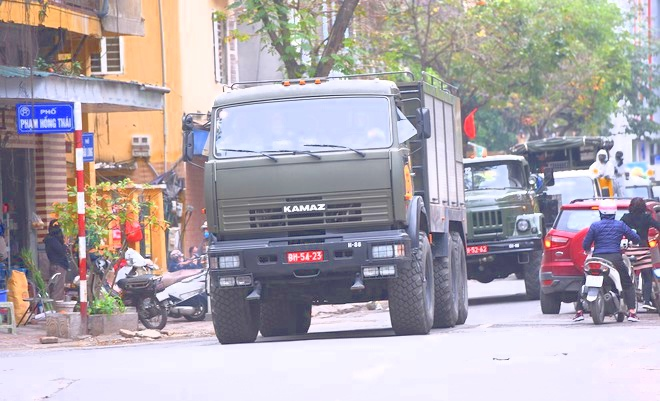plate: (282, 244, 323, 265), (465, 241, 491, 257)
